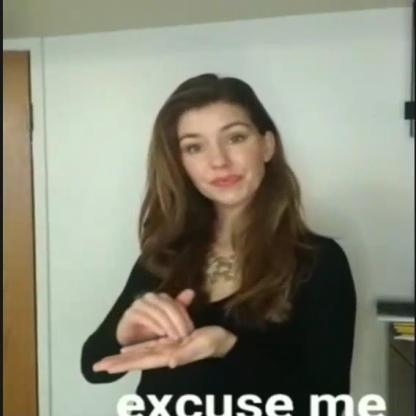ExcuseMe: (71, 278, 224, 379)
